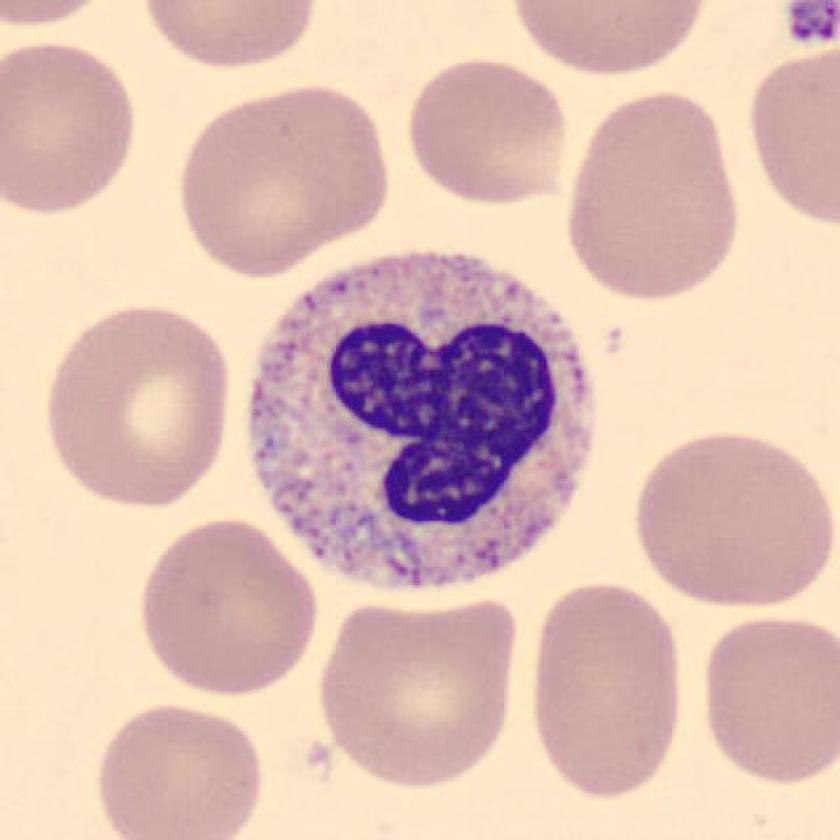neutrophil: (248, 251, 598, 587)
